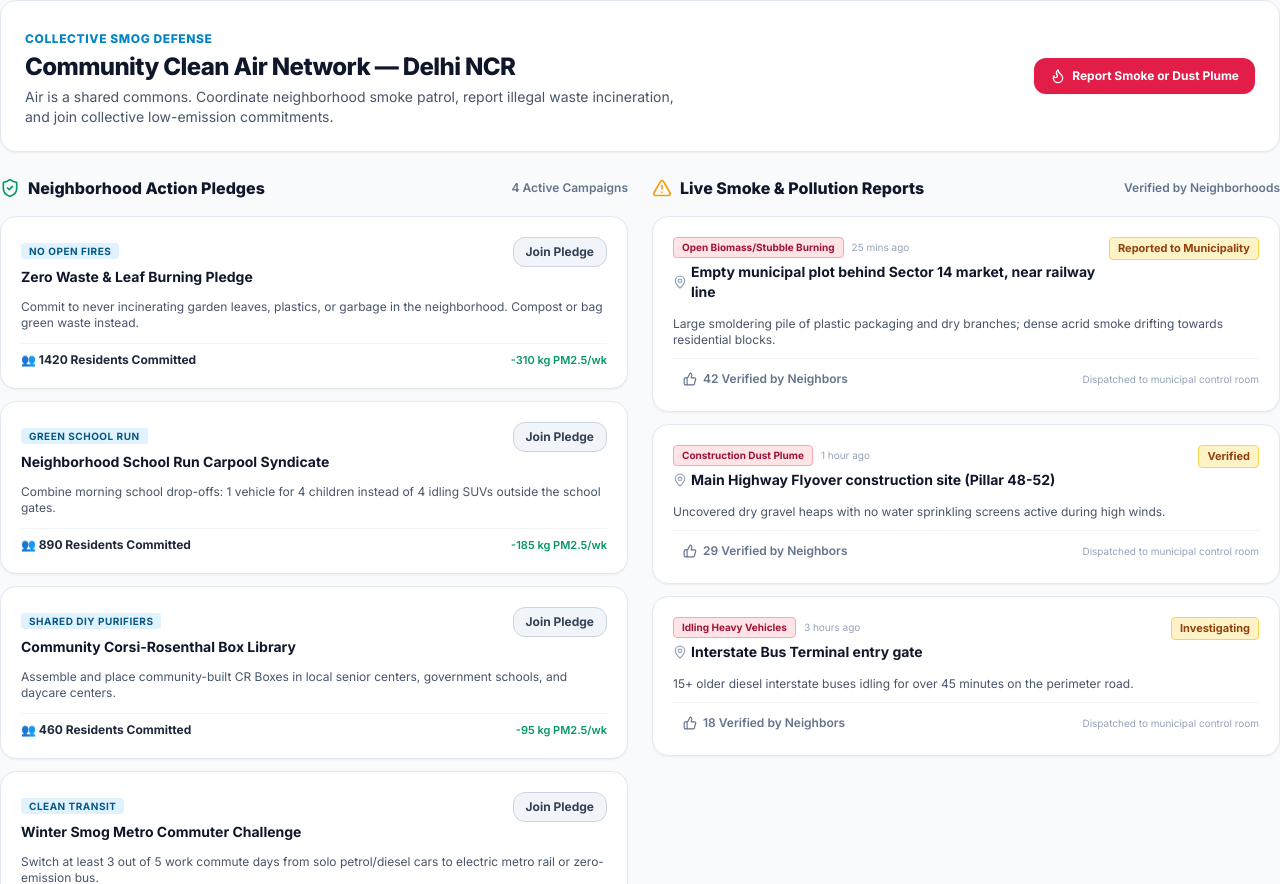
it: CommunityActionHub Component › submits a new smoke report and adds it to the report feed
Click the button "Report Smoke or Dust Plume" at (1145, 76), box 1034,58 -> 1255,94
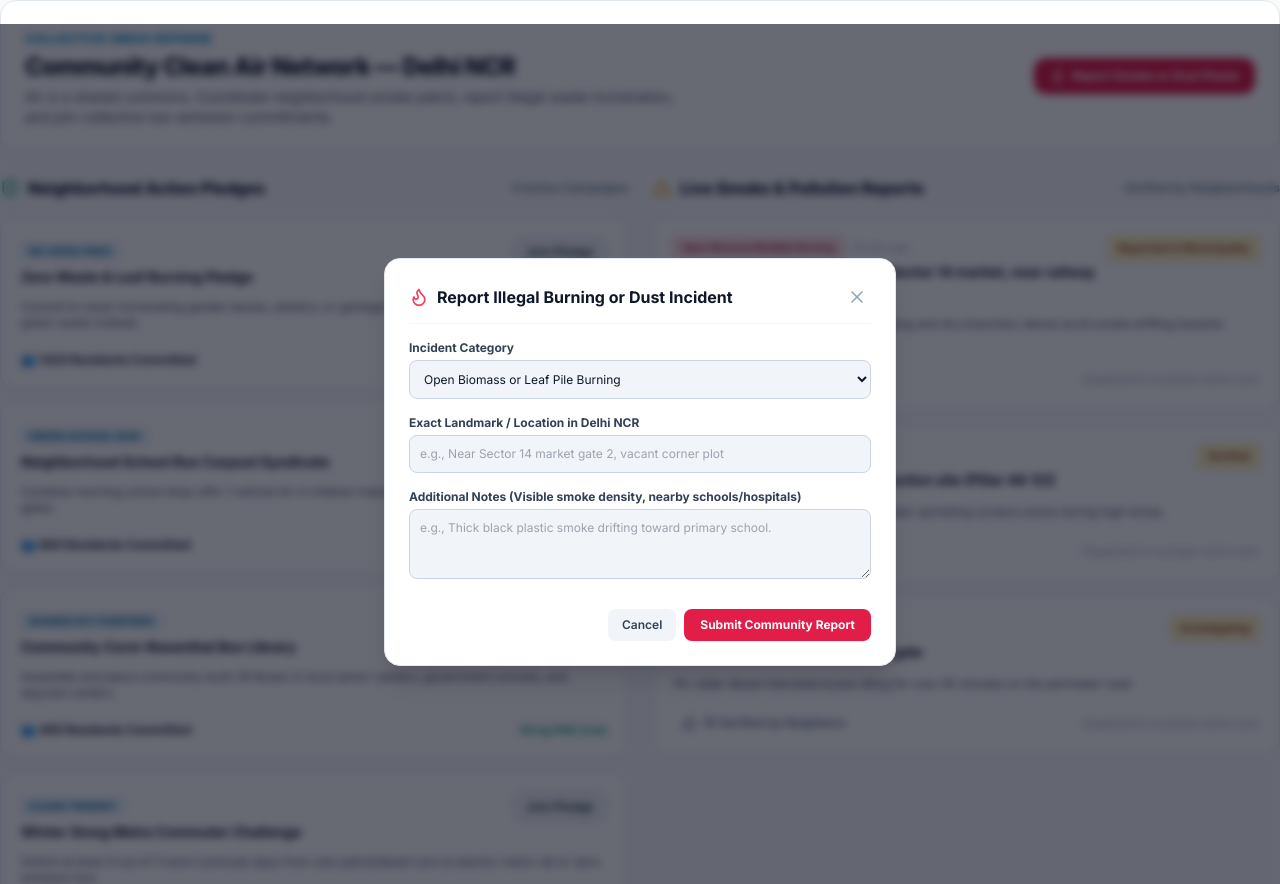
expect the heading "Report Illegal Burning or Dust Incident" is shown: met, box 437,285 -> 733,309
Type "Near Gate 4 Community Center" into the field labelled "Exact Landmark / Location in Delhi NCR" at (640, 454), box 409,435 -> 871,473
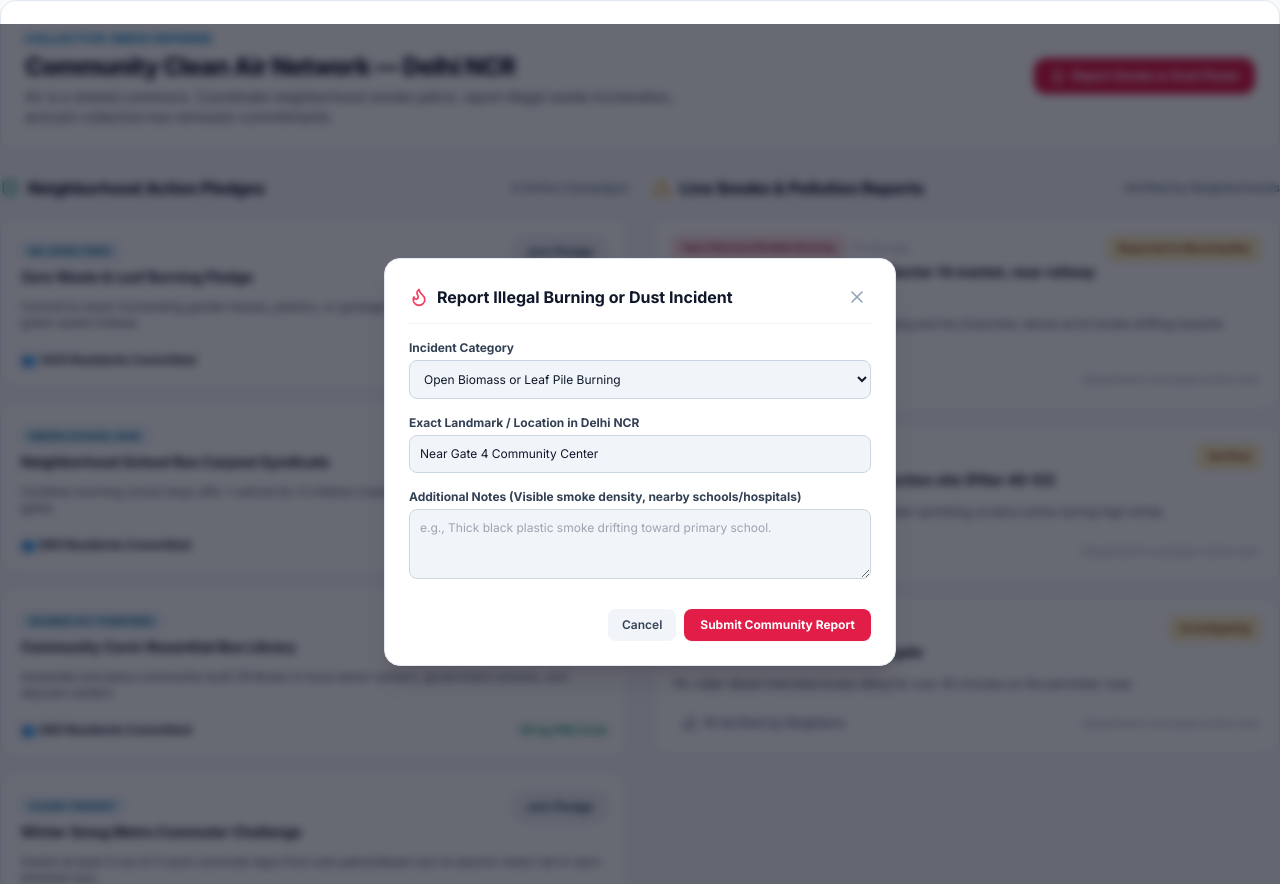
Replace the text in the text box labelled "Additional Notes" with "Heavy plastic burning pile visible" at (640, 544), box 409,509 -> 871,579
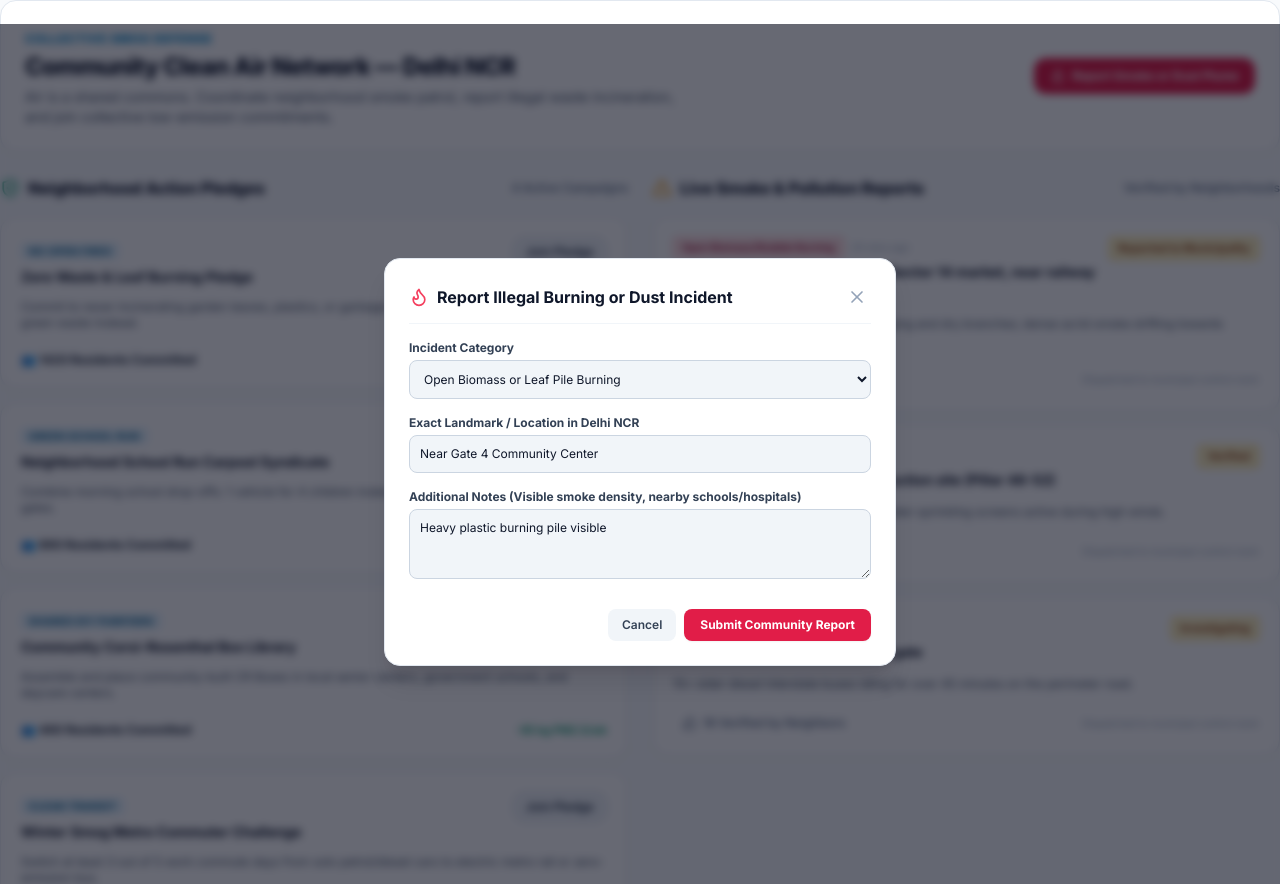
Click the button "Submit Community Report" at (778, 625), box 684,609 -> 871,641
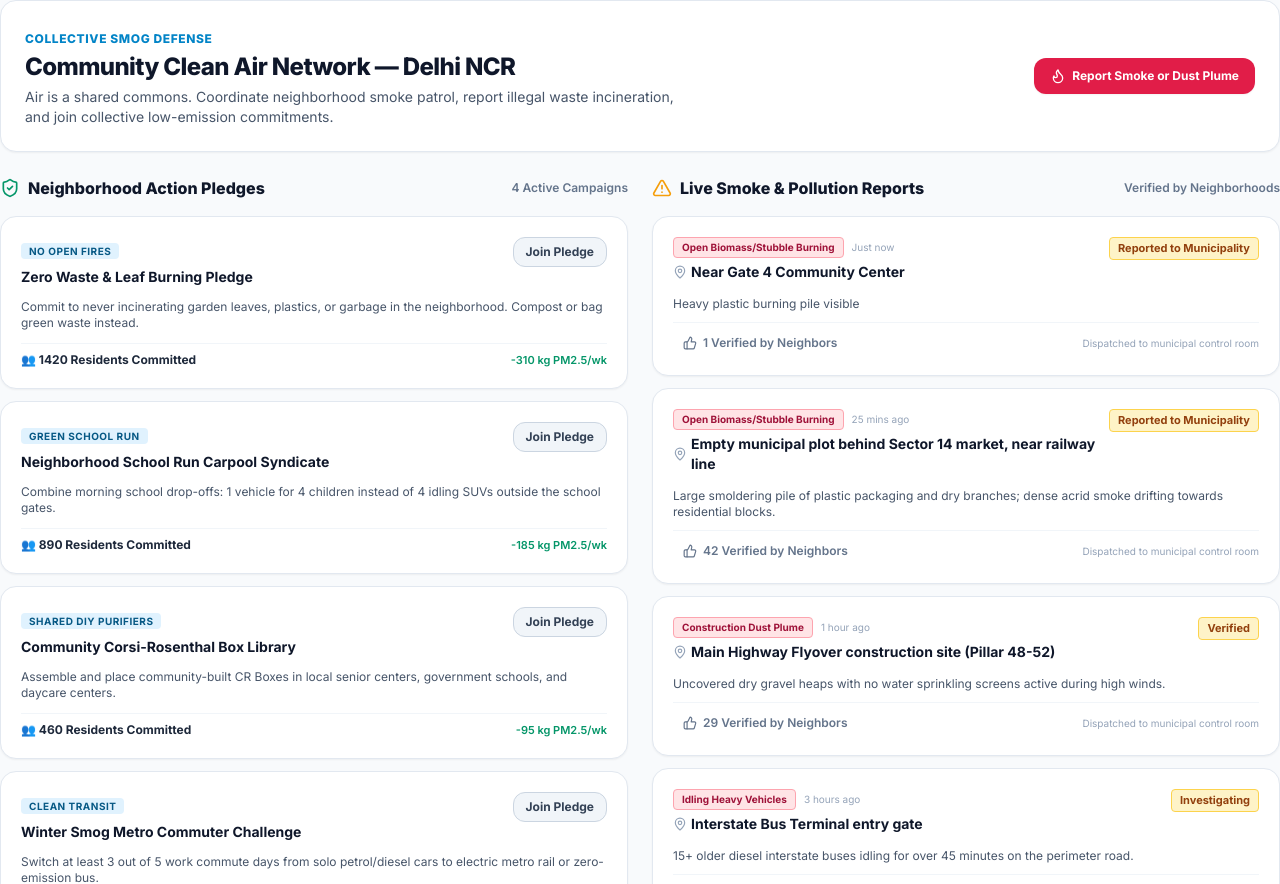
expect the heading "Report Illegal Burning or Dust Incident" is gone: met
expect the text "Near Gate 4 Community Center" is shown: met, box 691,262 -> 905,282
expect the text "Heavy plastic burning pile visible" is shown: met, box 673,296 -> 860,311
